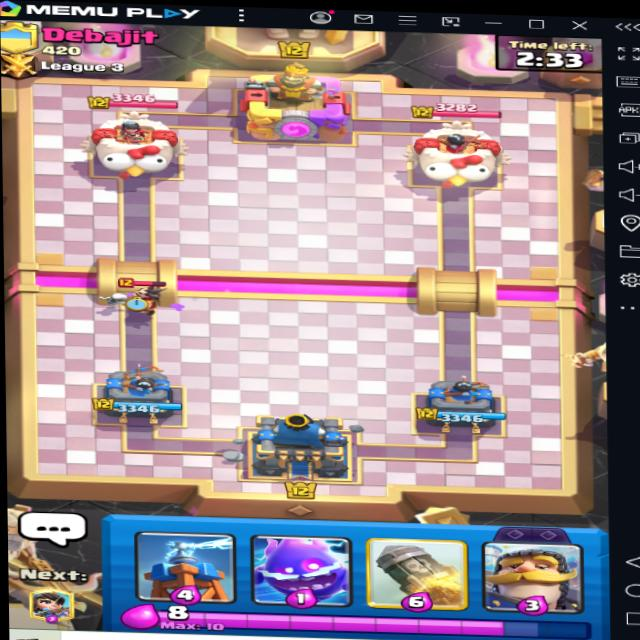electro-wizard: (128, 278, 165, 313)
